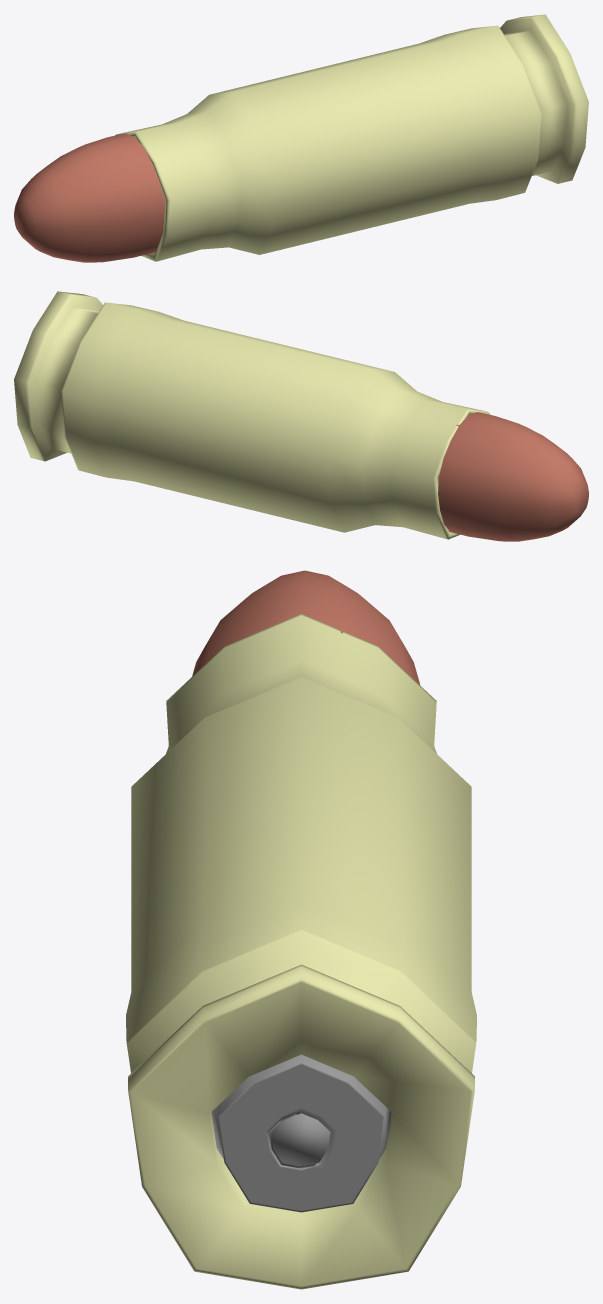
File: BulletMauser.fbx
The picture shows the model from 3 angles, top to bottom: view 1: azimuth 30°, elevation 25°; view 2: azimuth 150°, elevation 25°; view 3: azimuth 270°, elevation 25°; orthographic projection. The views are drawn at different scales.
Parts seen in each view (by area): view 1: Case, Bullet; view 2: Case, Bullet; view 3: Case, Bullet.
Part boxes in pixels (<box>): Case: <box>115,14,588,261</box>; Bullet: <box>14,133,165,262</box>; Case: <box>14,291,490,539</box>; Bullet: <box>438,412,588,541</box>; Case: <box>126,614,476,1289</box>; Bullet: <box>192,570,419,684</box>.
Size of the model in its own units: 11.7 by 3.35 by 3.39.
